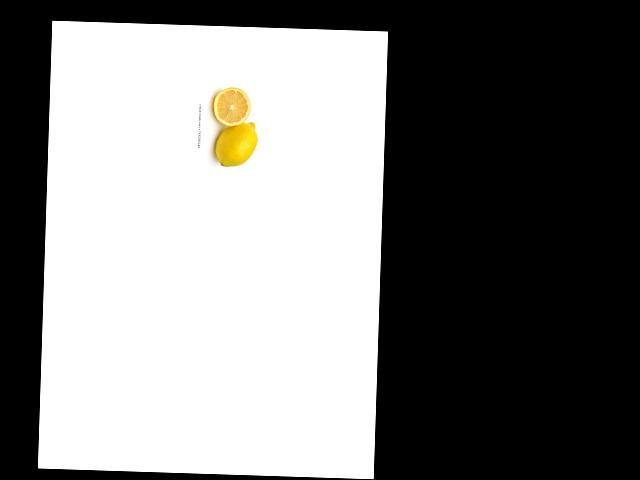lemon: (213, 120, 258, 171)
